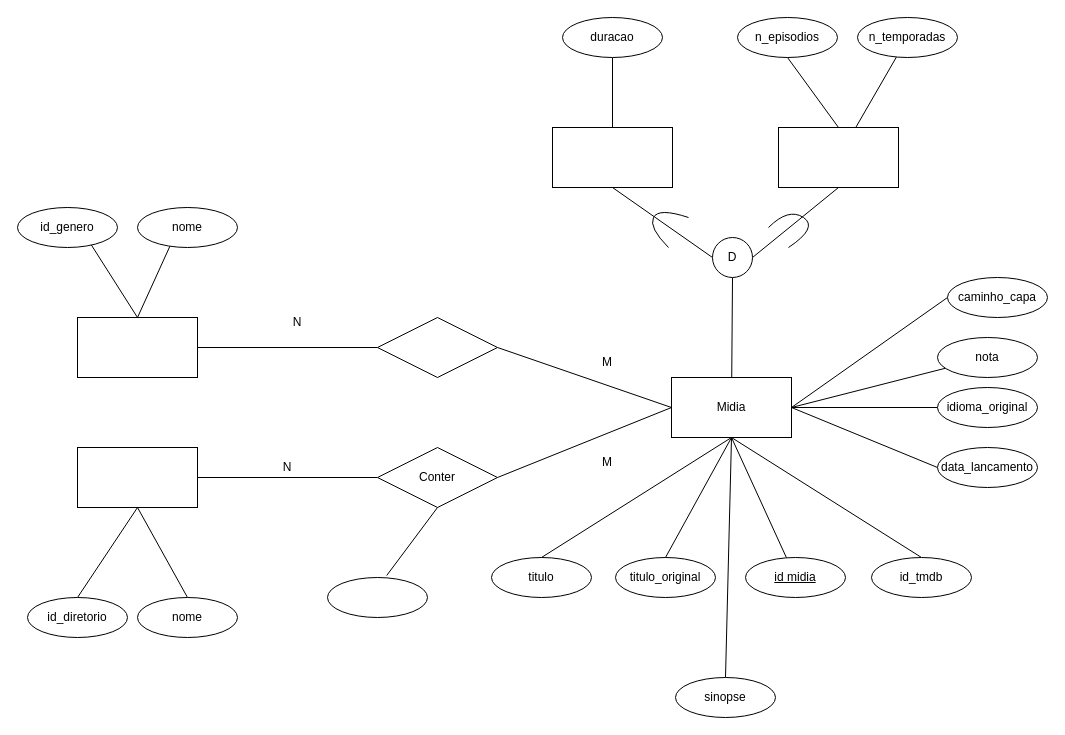
Image size: 1065x735. Some labels were removed from this diagram. Each missing label, with the centre of its shape:
data_adicao: [377,597]
Diretorio: [137,477]
Filme: [612,157]
Genero: [137,347]
Possuir: [437,347]
Serie: [838,157]
